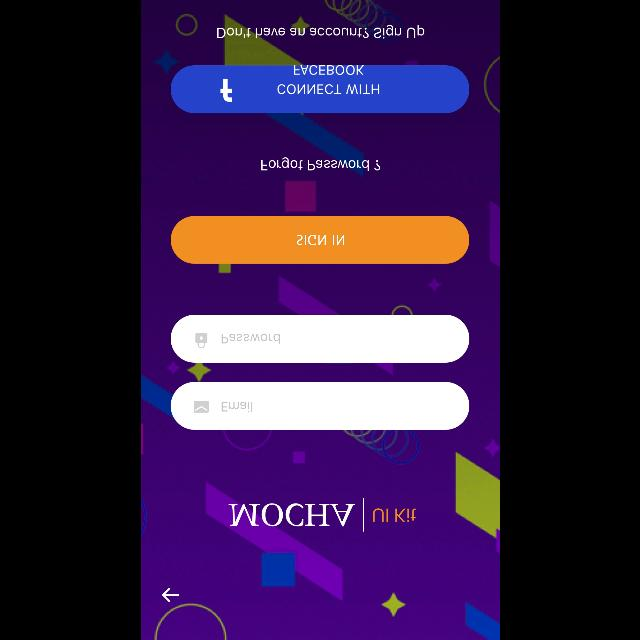backgroundimage: (140, 1, 500, 640)
icon: (162, 588, 178, 602), (195, 332, 207, 348), (194, 401, 208, 413)
input: (170, 382, 470, 430), (170, 315, 470, 363)
text: (217, 25, 425, 39), (228, 504, 354, 526), (260, 157, 380, 170), (372, 508, 416, 522), (221, 334, 279, 344), (220, 402, 252, 412)
textbutton: (170, 216, 470, 264), (170, 65, 470, 113)
